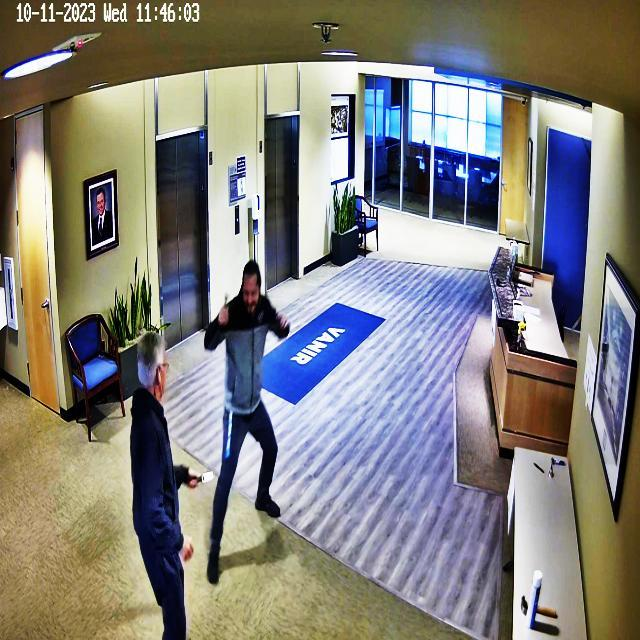Knife: (190, 456, 228, 492)
